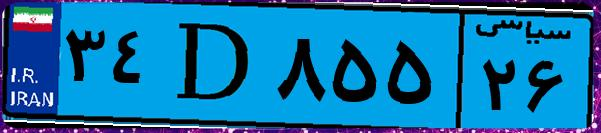2: (475, 38, 525, 113)
3: (57, 26, 110, 100)
4: (110, 28, 158, 98)
5: (385, 28, 445, 110), (330, 28, 385, 110)
6: (525, 38, 570, 115)
8: (270, 28, 330, 110)
D: (158, 12, 270, 120)
